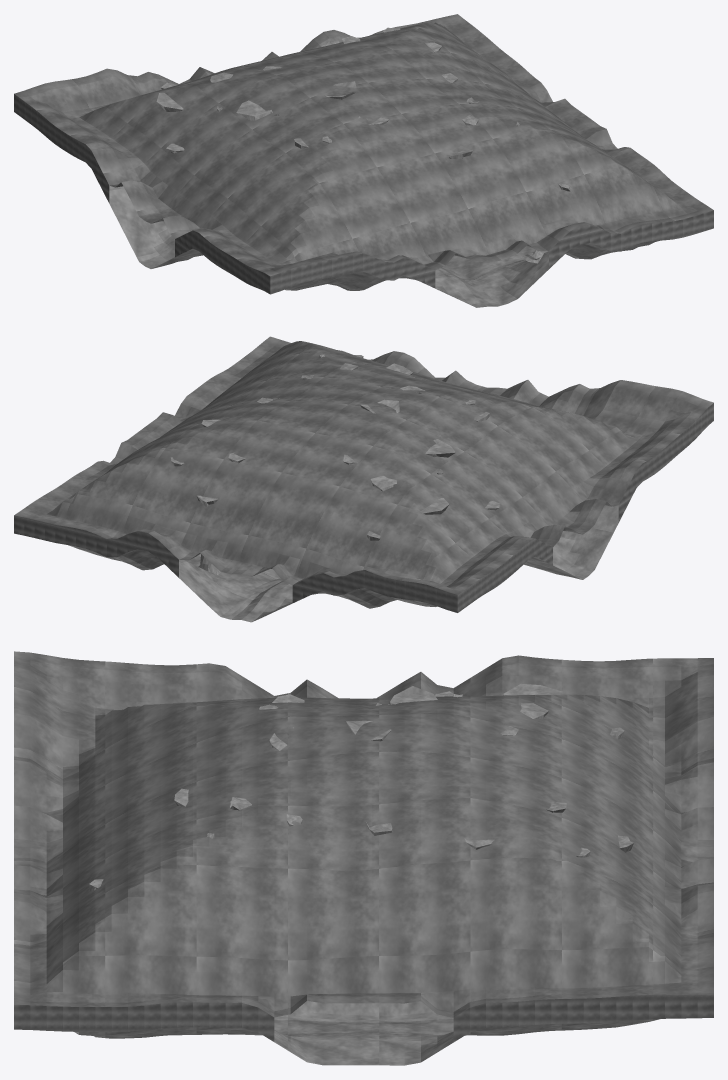
3 views of the same model, one above another, from view 1: azimuth 30°, elevation 25°; view 2: azimuth 150°, elevation 25°; view 3: azimuth 270°, elevation 25° (orthographic). The views are drawn at different scales.
Visible parts, largest first — view 1: CavernVault, CavernWalls, CavernFloor, CavernStalactites; view 2: CavernVault, CavernWalls, CavernFloor, CavernStalactites, CavernColumns; view 3: CavernVault, CavernWalls, CavernFloor, CavernStalactites.
Part boxes in pixels (x1,y1,x2,y2): CavernVault: (14,14,713,276); CavernWalls: (14,94,713,294); CavernFloor: (109,185,659,307); CavernStalactites: (156,27,571,191); CavernVault: (14,336,713,594); CavernWalls: (14,403,713,612); CavernFloor: (68,505,618,622); CavernStalactites: (171,354,500,540); CavernColumns: (197,399,399,574); CavernVault: (14,651,713,1017); CavernWalls: (14,993,713,1041); CavernFloor: (73,1001,659,1065); CavernStalactites: (89,683,624,891).
Bounding box in the file's own units: 92 × 31.15 × 92.
Materials: 5 (5 with a texture image).
